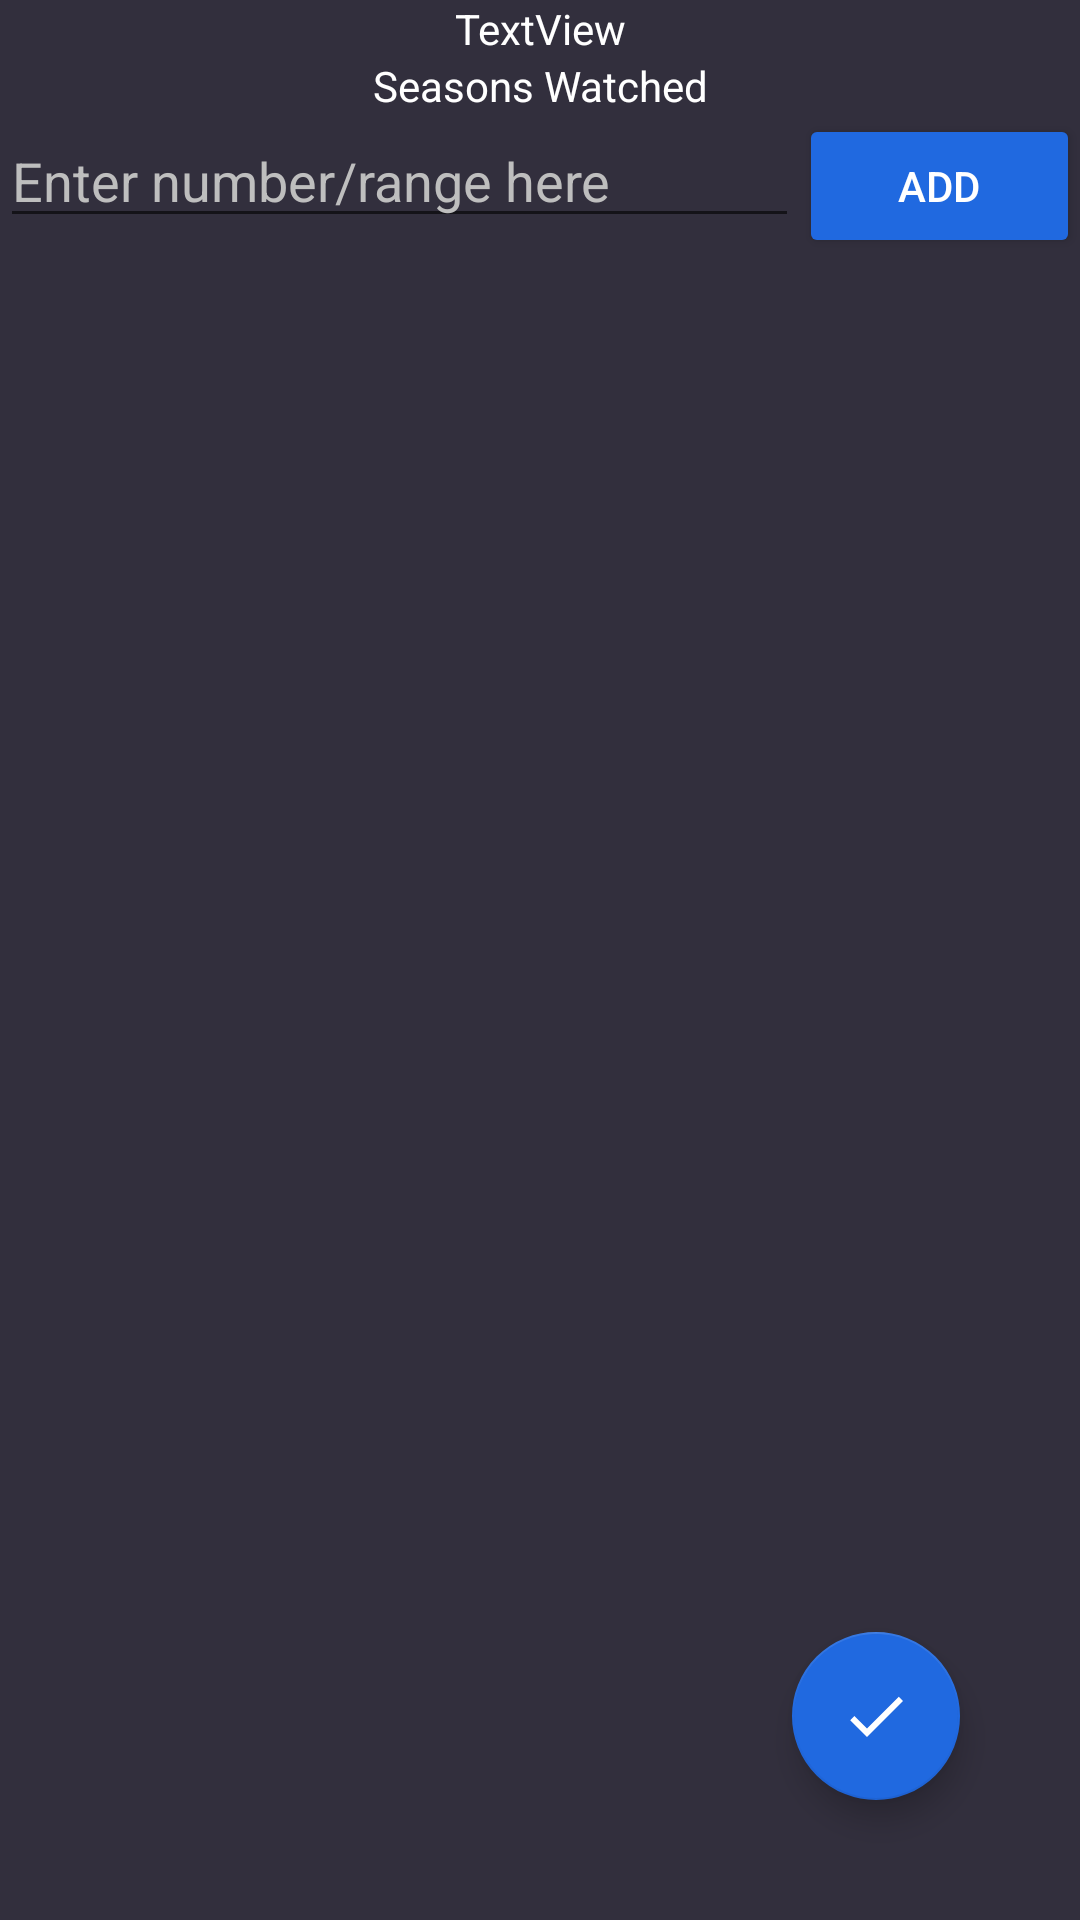

Named icons in this screenshot (1080 x 1920) and their bounding boxes, detection(x1, y1, x2, y2):
done: detection(792, 1632, 960, 1800)
